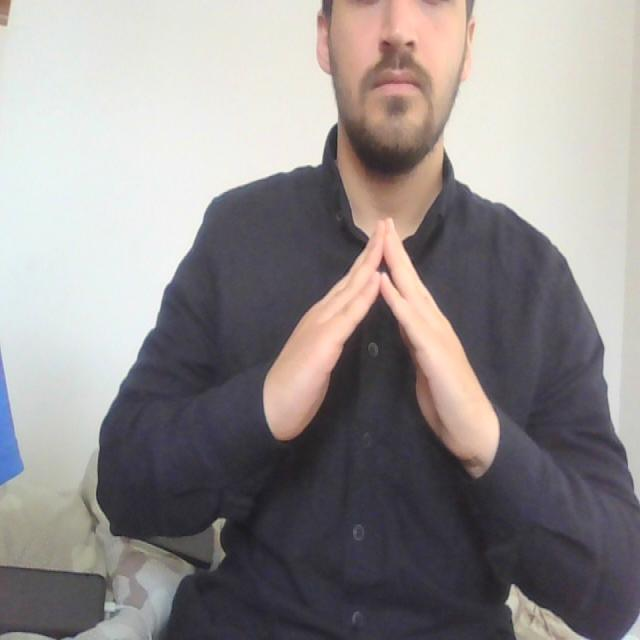Ev: (263, 213, 501, 468)
